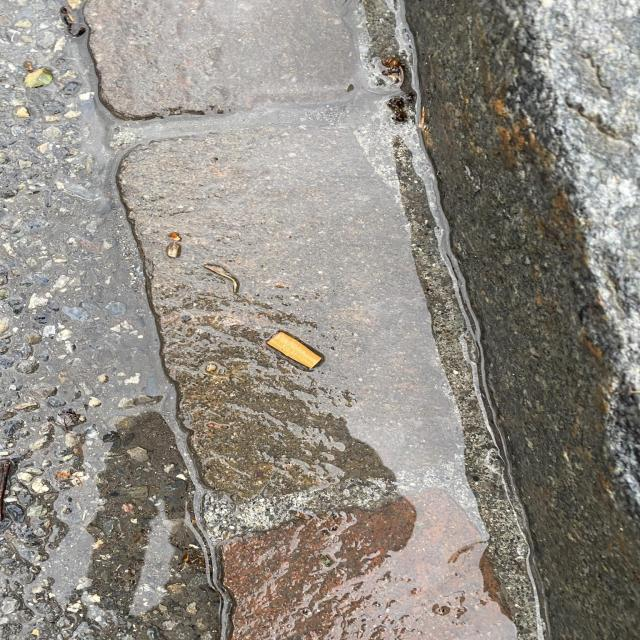other waste: (266, 329, 322, 368)
